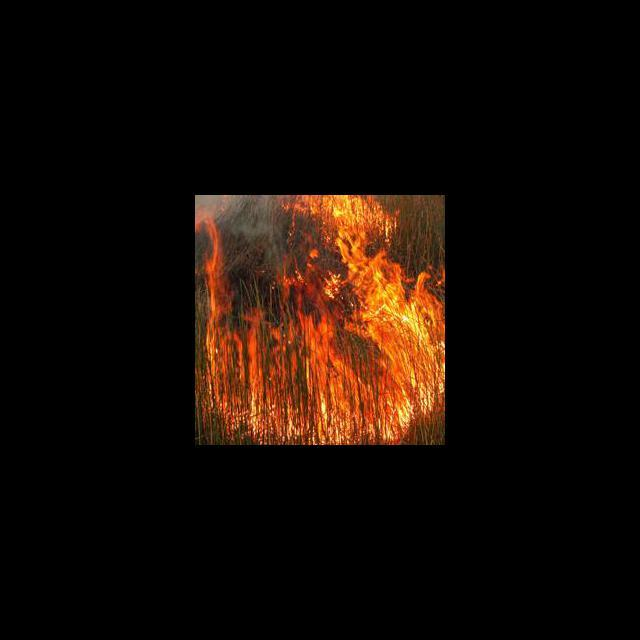Fire: (195, 195, 444, 444)
